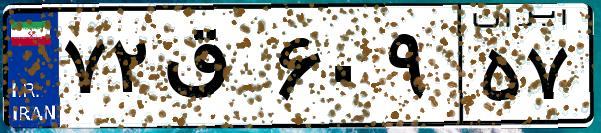0: (330, 28, 385, 110)
2: (110, 28, 158, 98)
5: (475, 38, 525, 113)
6: (270, 28, 330, 110)
7: (57, 26, 110, 100), (525, 38, 570, 115)
9: (385, 28, 445, 110)
ق: (158, 20, 270, 120)
